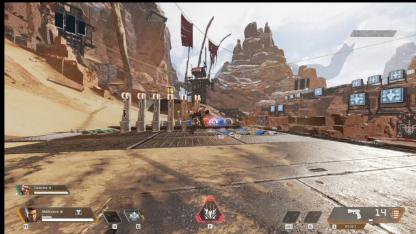Target: (189, 107, 209, 135)
